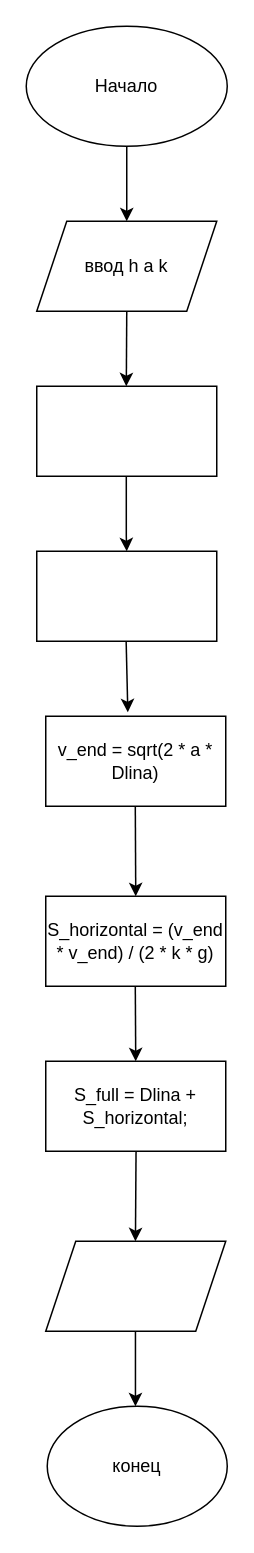
The diagram is 254 pixels wide and 1553 high, and some of its shapes have lost their labels. Here are the shapes that lost their labels. From the top down, the centre of each, then its label:
the point at 126,430: g = 9.81 Dlina = h / sin(A)
the point at 126,595: a = g * (sin(A) - k * cos(A))
the point at 135,1285: вывод данных
